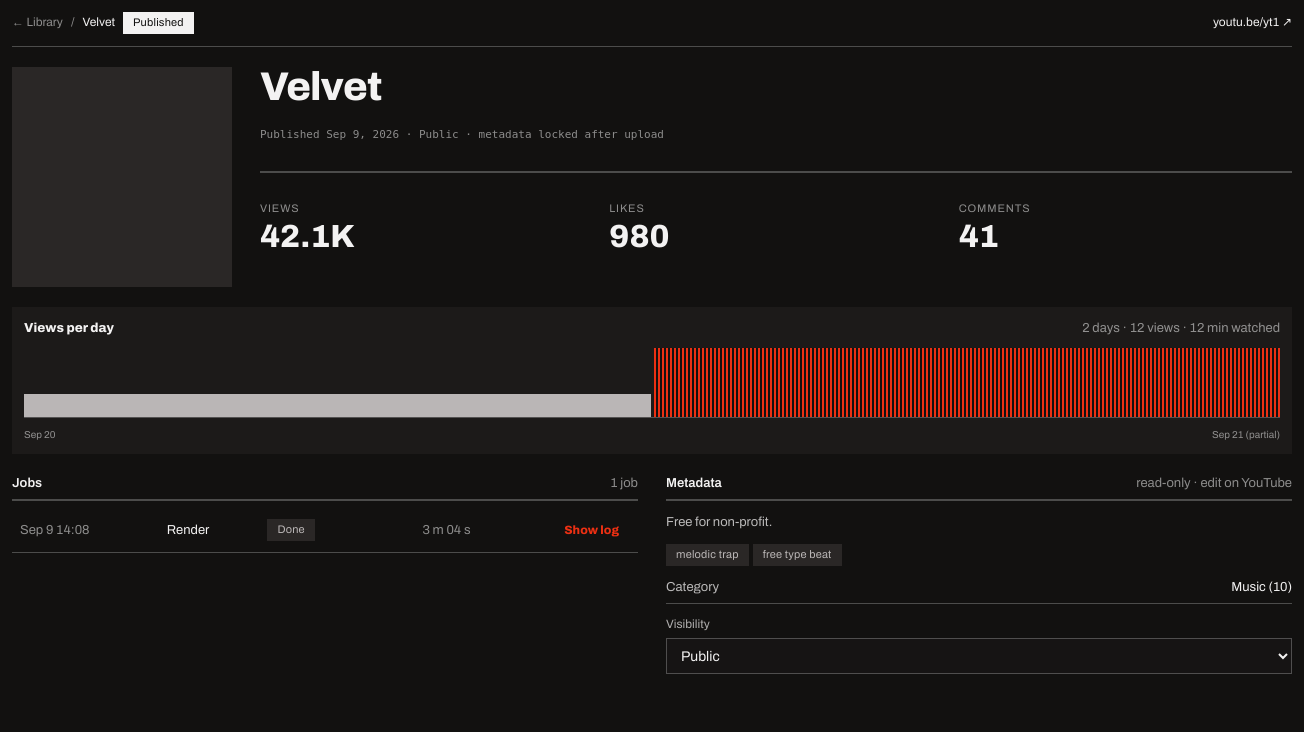
Test case: a job's log opens inline in the history table and closes again
The image size is (1304, 732).
Check: the text "frame= 7020" is not shown
Click the button "Show log".
click(592, 530)  # box [553,517,630,544]
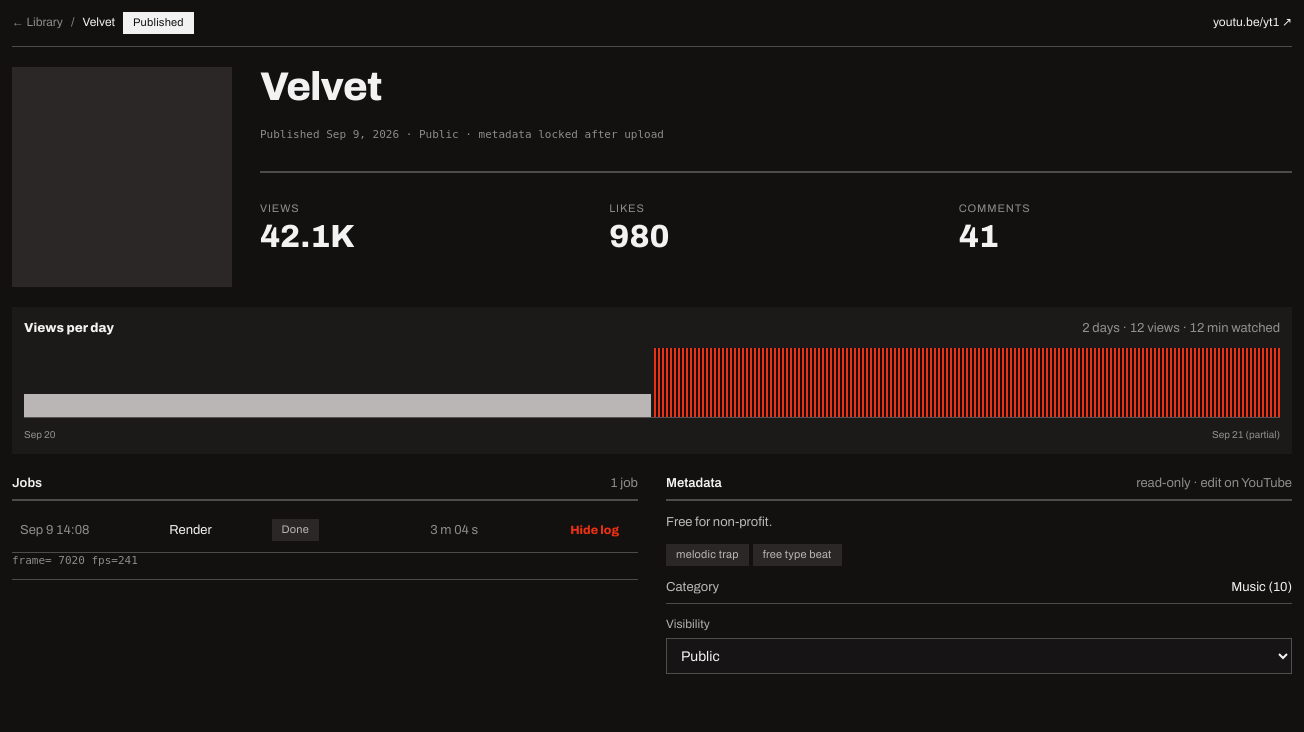
Check: the text "frame= 7020 fps=241" is shown, box [12,554,138,566]
Click the button "Hide log".
click(595, 530)  # box [559,517,630,544]
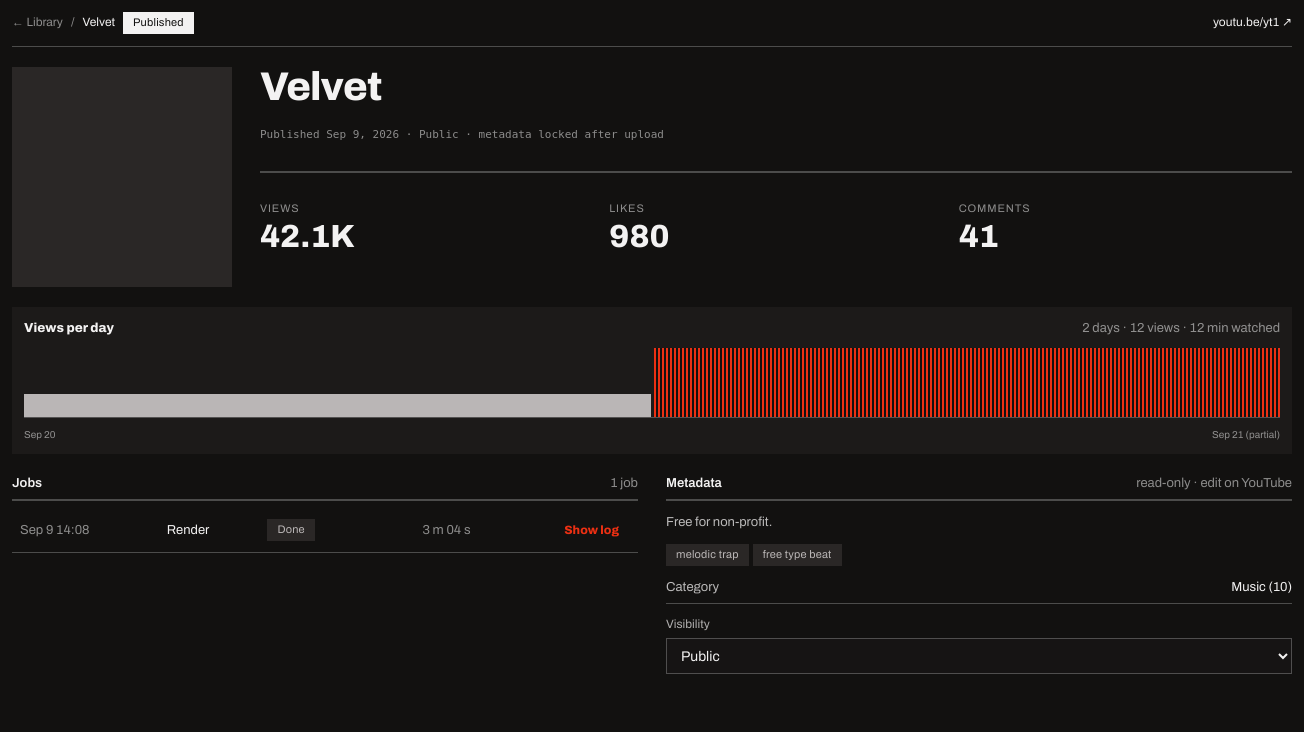
Check: the text "frame= 7020" is gone
